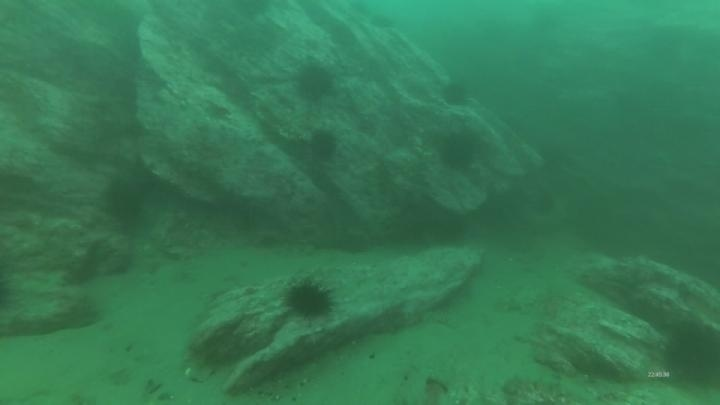echinus: (658, 318, 720, 390), (101, 173, 150, 228), (282, 276, 337, 321), (292, 58, 337, 104), (436, 128, 482, 172), (307, 126, 341, 163), (439, 78, 472, 109)
